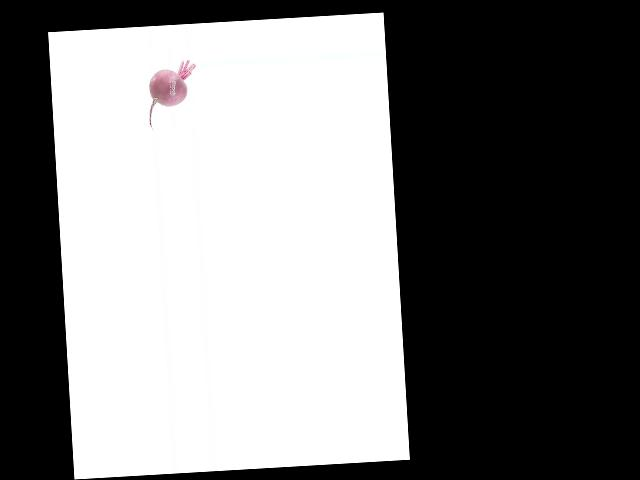beet: (146, 59, 199, 131)
